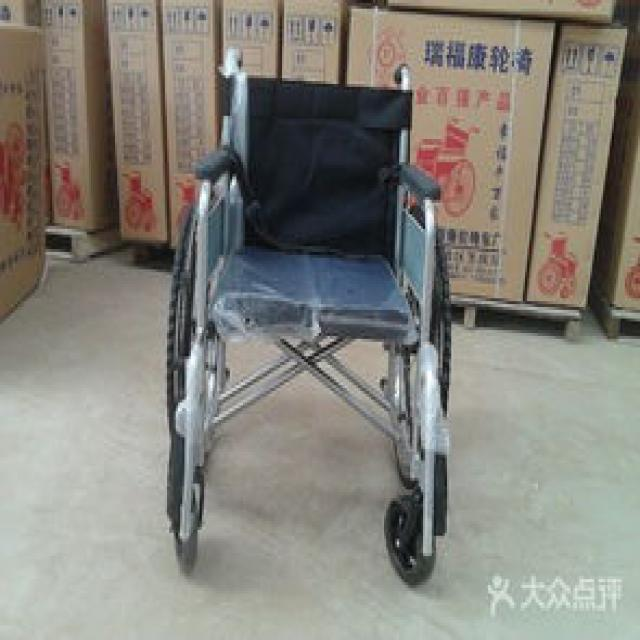wheelchair: (160, 31, 456, 602)
